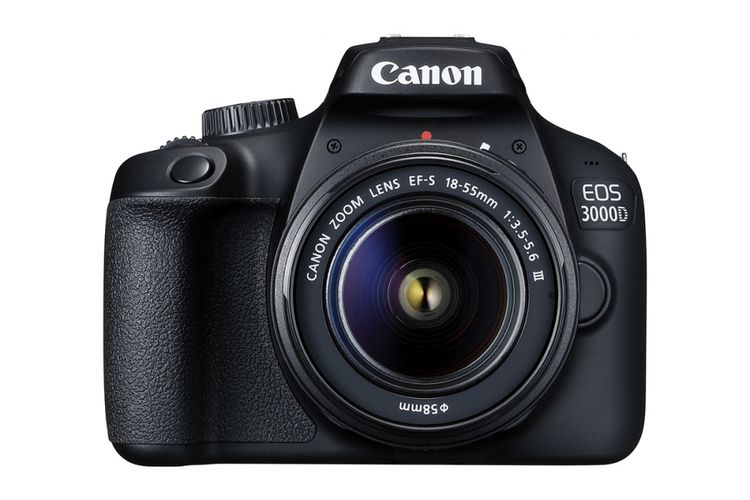kamera: (96, 31, 651, 475)
